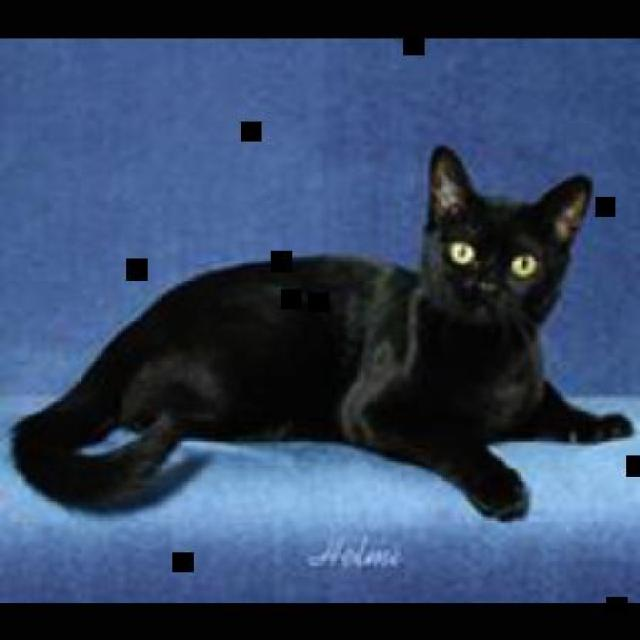unauthorized: (8, 143, 632, 522)
